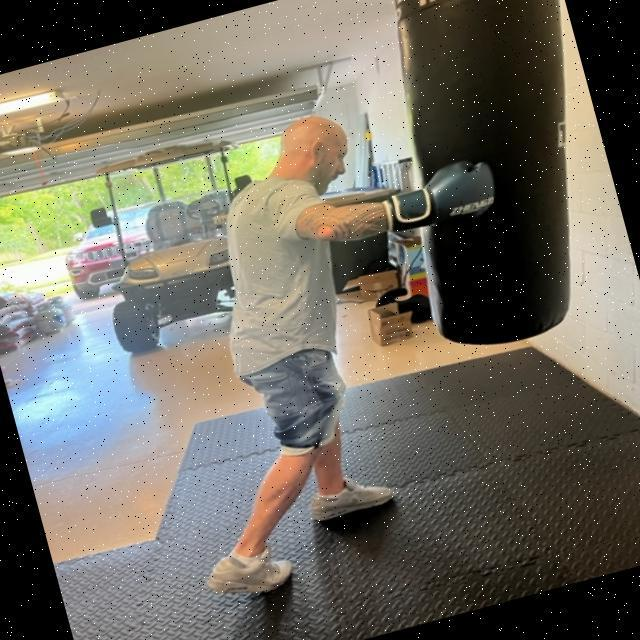hook: (201, 58, 531, 304)
